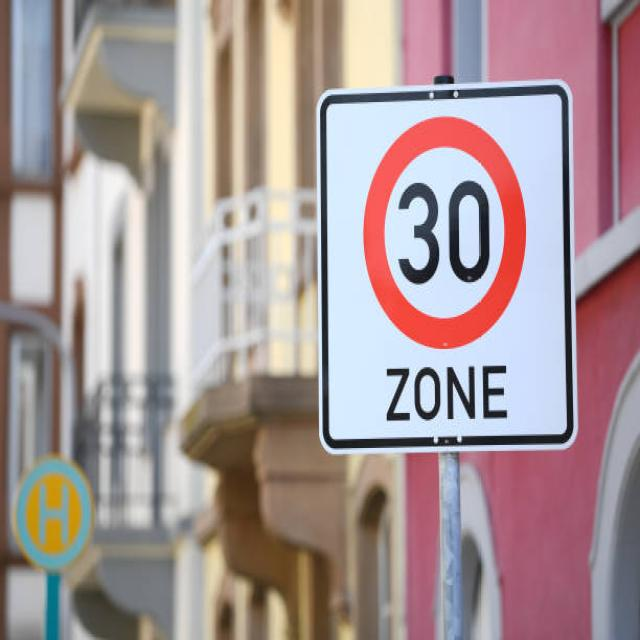Speed limit 30: (360, 119, 536, 348)
